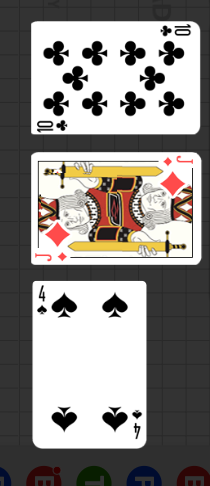10C: (158, 24, 192, 39)
4S: (130, 407, 143, 441), (35, 284, 48, 317)
